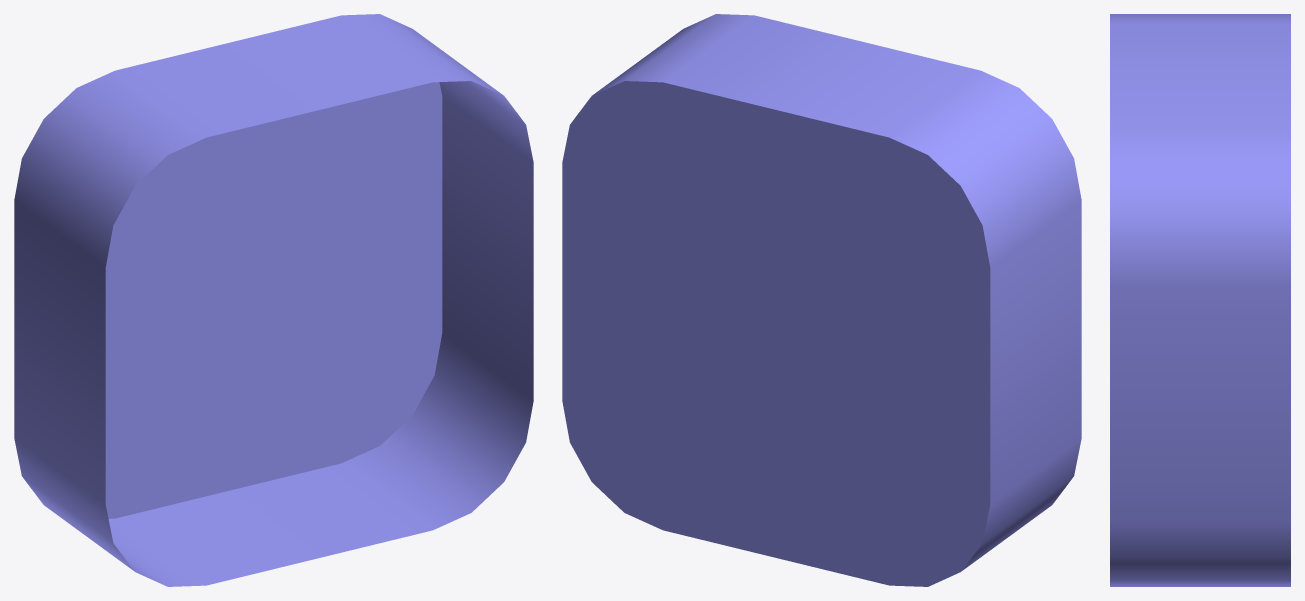
File: original-5.obj
3 views of the same model, side by side, from view 1: azimuth 30°, elevation 25°; view 2: azimuth 150°, elevation 25°; view 3: azimuth 270°, elevation 25° (orthographic).
Visible parts, largest first — view 1: #ID66; view 2: #ID66; view 3: #ID66.
Boxes of the visible parts, x1,y1,x2,y2 form: #ID66: (14,14,533,586); #ID66: (562,14,1081,586); #ID66: (1110,14,1290,586).
Size of the model in its own units: 0.2532 by 0.2532 by 0.0937.
